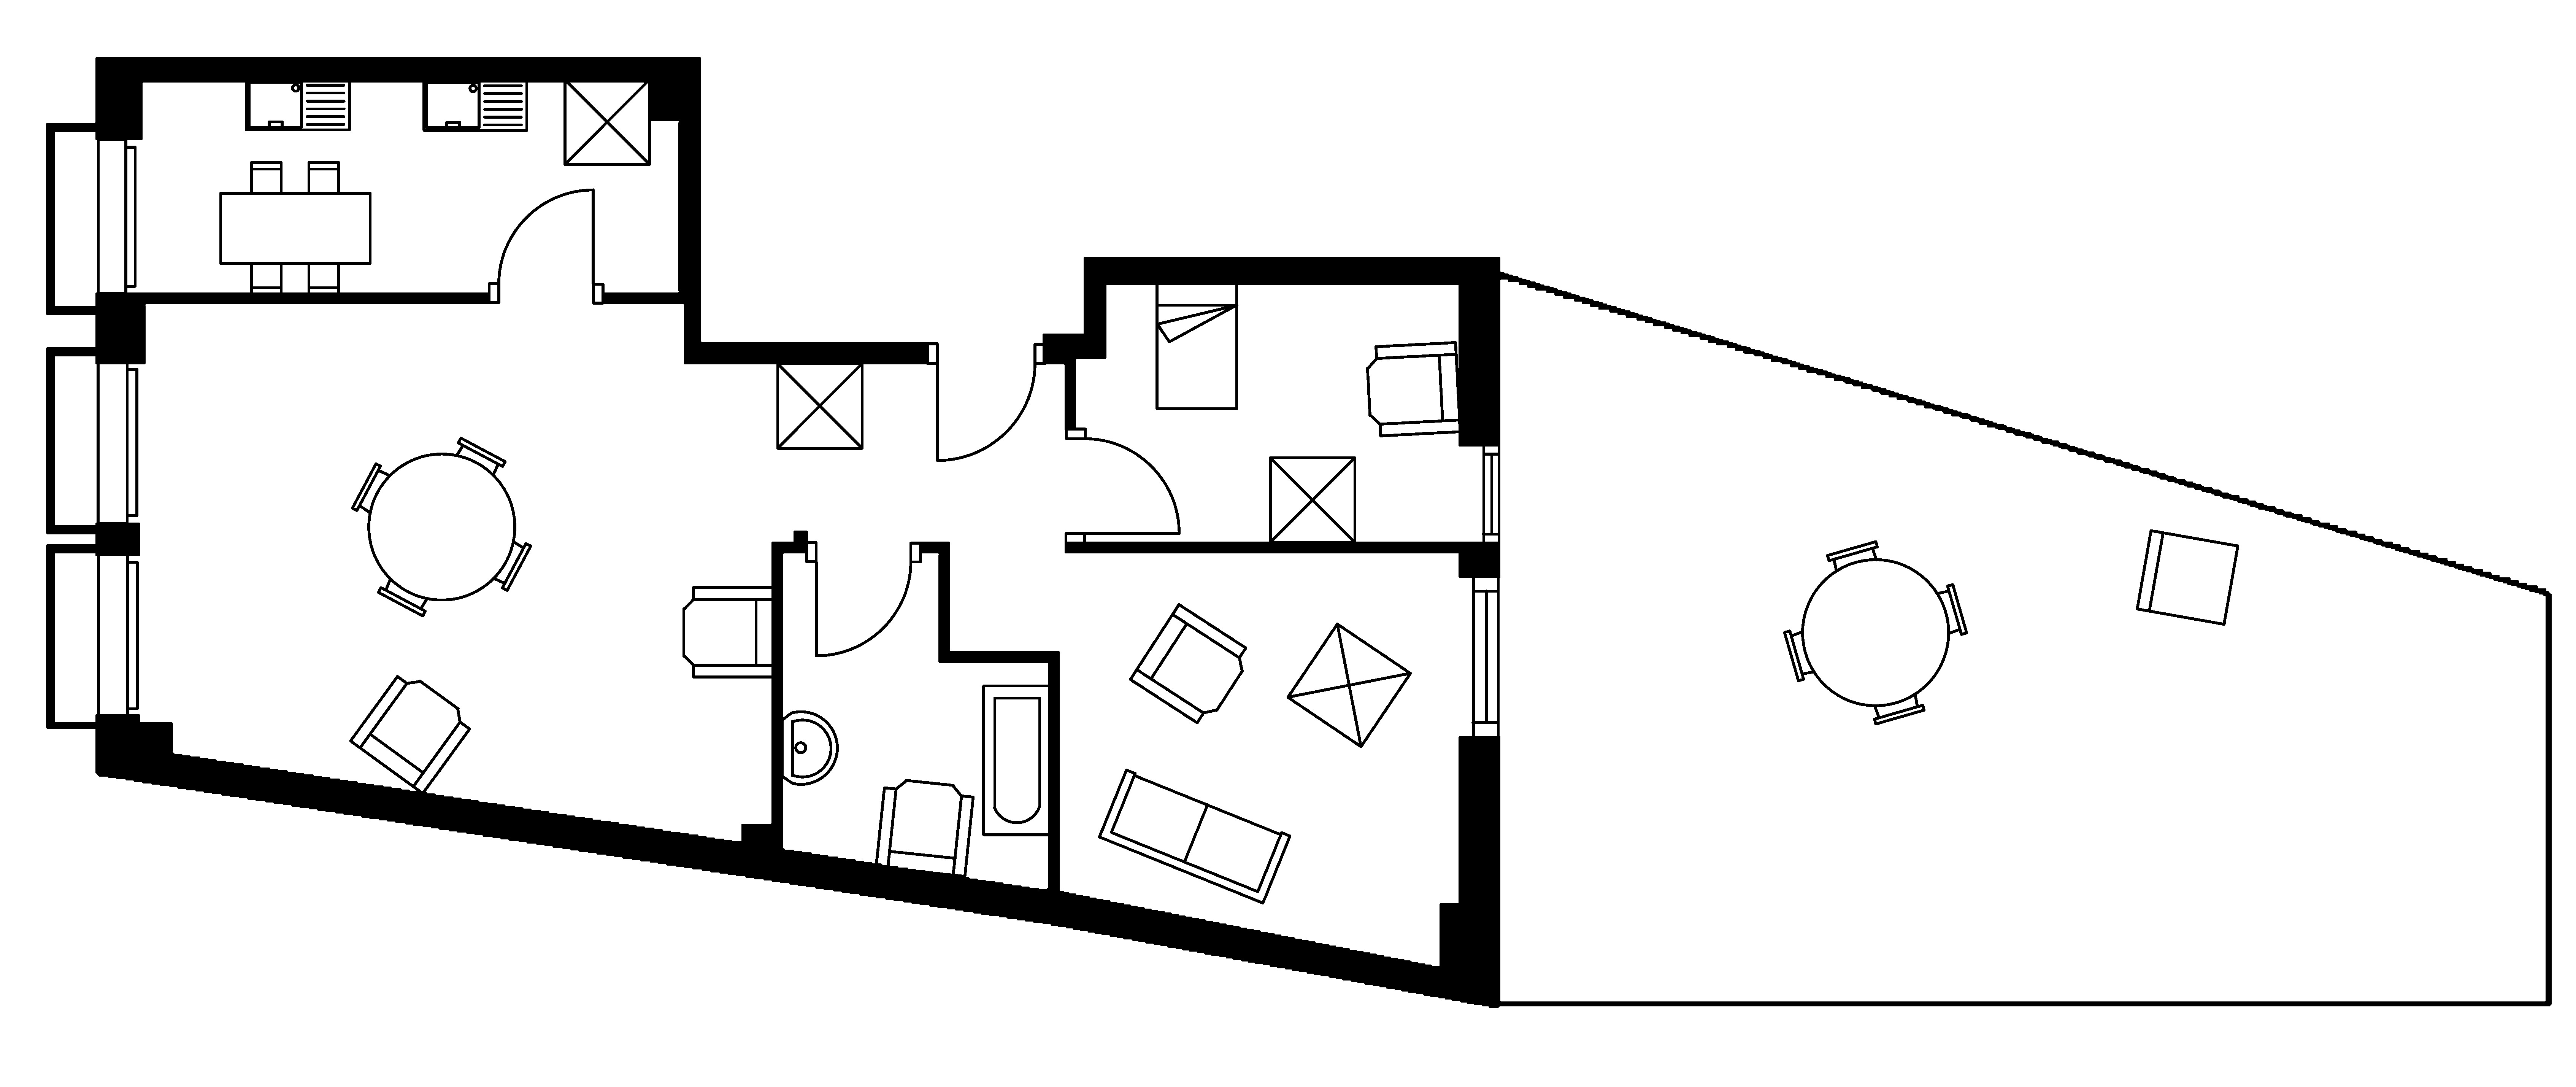armchair: (348, 674, 471, 794), (1129, 602, 1247, 725), (874, 778, 974, 878), (1365, 340, 1462, 437), (682, 585, 774, 679)
bed: (1155, 280, 1239, 411)
coffee_table: (1285, 622, 1413, 748), (562, 77, 651, 166), (775, 362, 864, 451), (1268, 456, 1357, 544)
dining_table: (218, 160, 371, 296)
large_sofa: (1097, 768, 1291, 904)
round_table: (1782, 539, 1968, 725), (350, 436, 532, 618)
sink: (245, 77, 352, 132), (422, 77, 529, 132)
small_sink: (780, 710, 838, 786)
small_sofa: (2136, 528, 2239, 627)
tub: (981, 684, 1051, 837)
